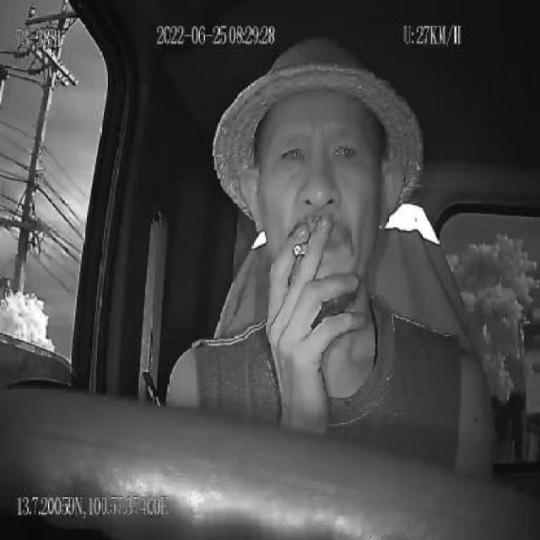smoking: (293, 240, 310, 259)
